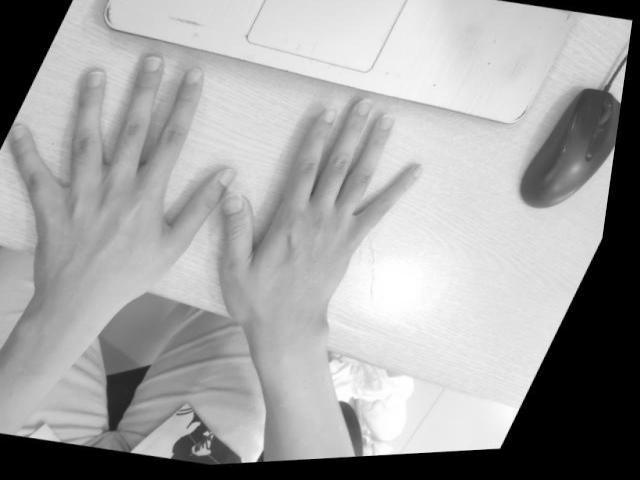not-gloved: (11, 59, 230, 286), (222, 101, 416, 327)
